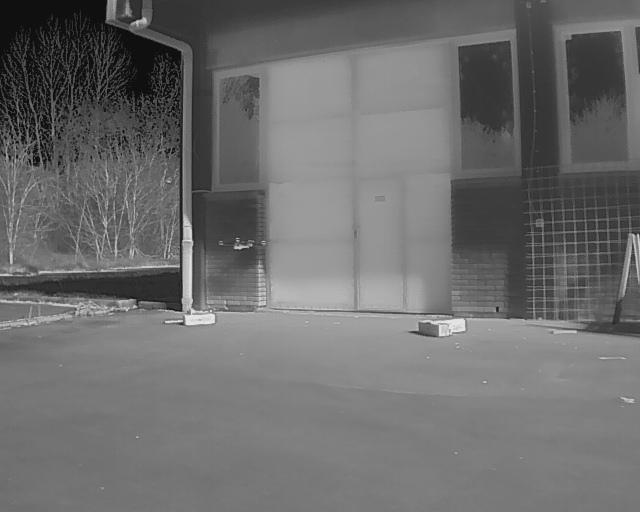drone: (218, 236, 276, 258)
